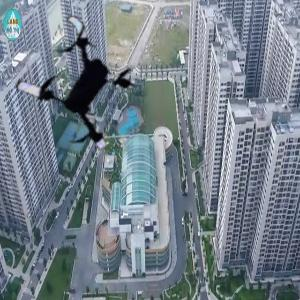drone: (5, 14, 146, 155)
